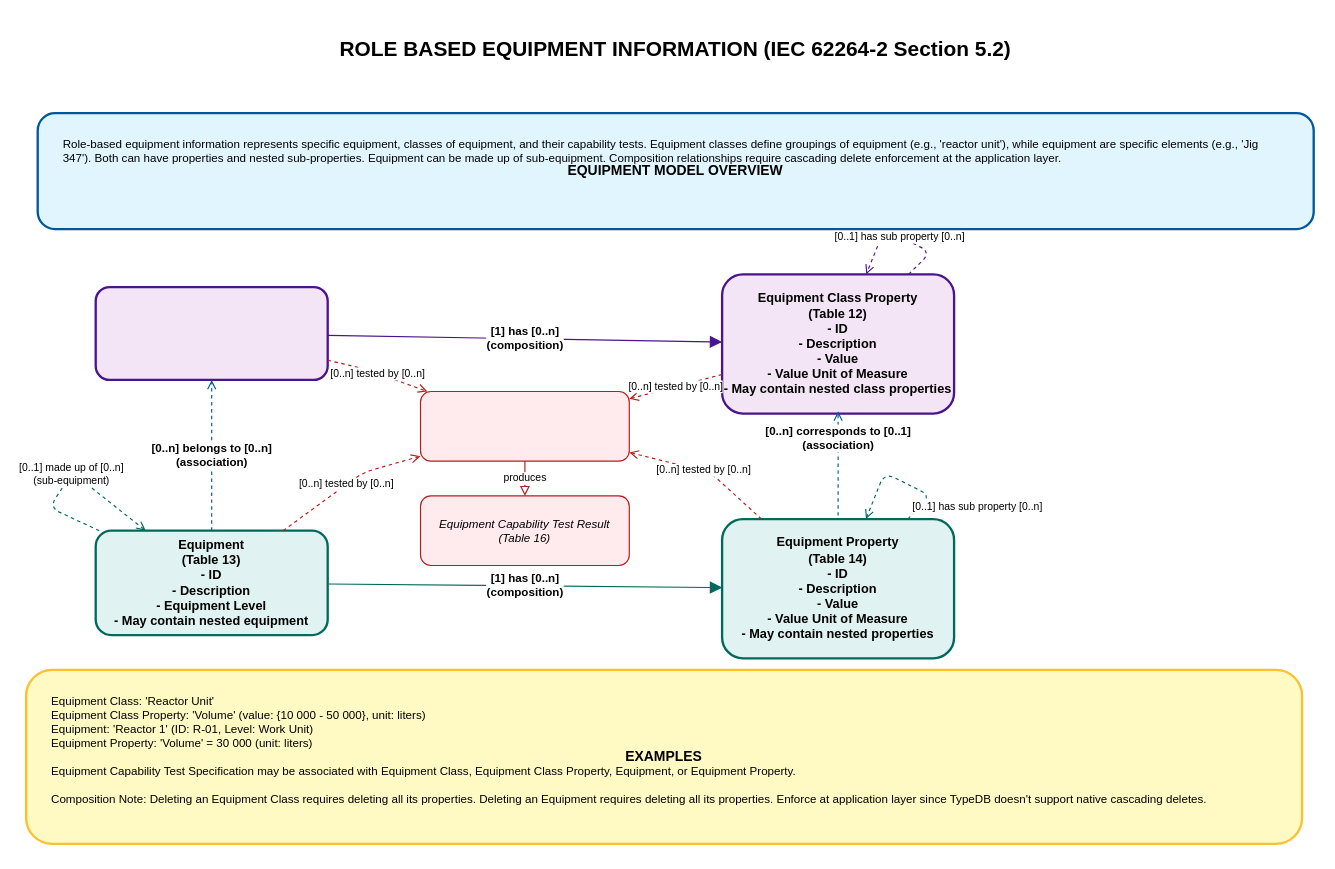
This 1335x869 diagram has some shape labels left out. The shapes that lost their labels are listed below. From the top down, each one's centre as x and y in pixels, then its label:
point 211,332: Equipment Class (Table 11) - ID - Description - Equipment Level
point 524,425: Equipment Capability Test Specification (Table 15)
